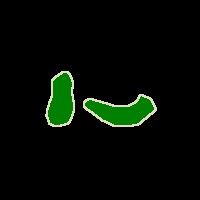shoe: (84, 94, 156, 126), (46, 72, 74, 126)
